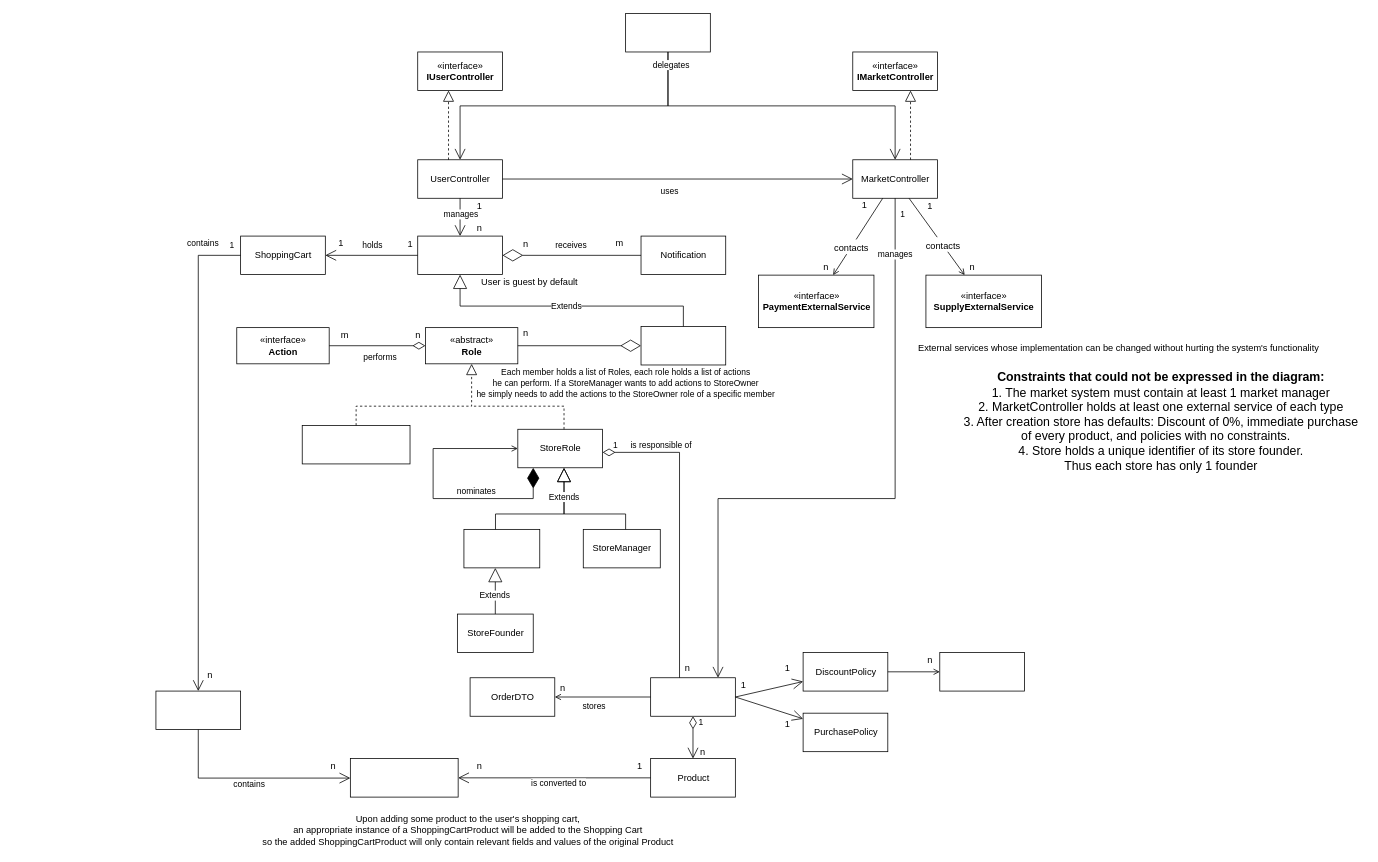
Image size: 1378x862. Some labels were removed from this diagram. The shapes that lost their labels are listed below. From the top down, each one's box as (x1, y1, x2, y2) in pixels, then its label:
(625, 13, 710, 52): Facade
(417, 235, 502, 275): User
(640, 326, 726, 365): Member
(301, 425, 410, 464): MarketManager
(463, 529, 540, 568): StoreOwner
(939, 652, 1024, 691): Discount
(155, 690, 241, 730): ShoppingBag
(650, 677, 735, 716): Store
(350, 758, 458, 797): ShoppingBagProduct
